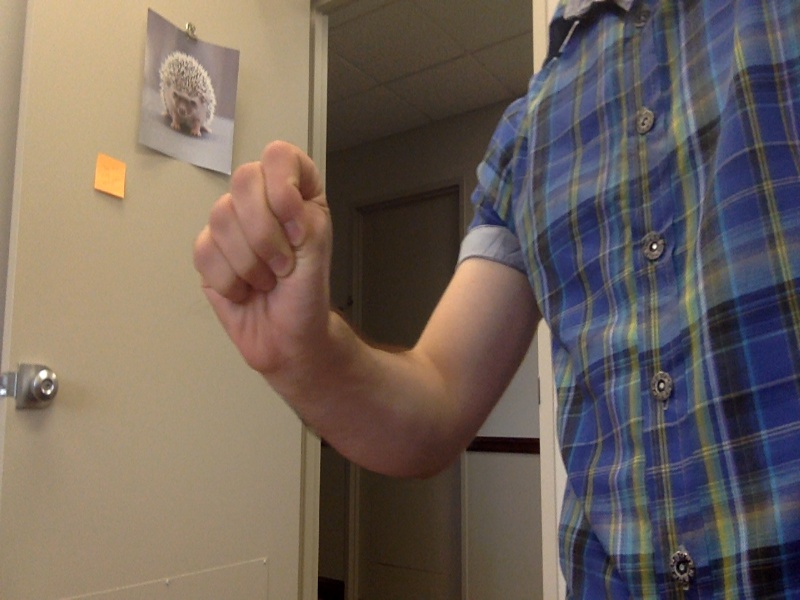0-hand: (194, 139, 337, 375)
